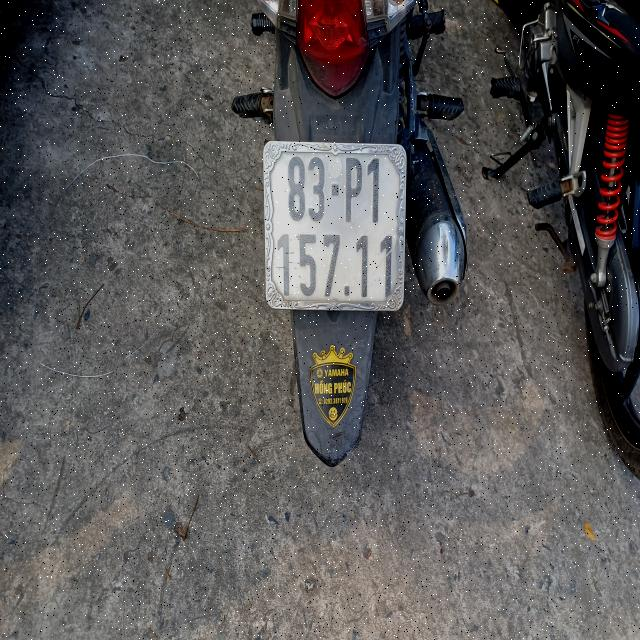1: (276, 228, 293, 296), (378, 233, 394, 301), (354, 233, 369, 297), (368, 156, 380, 225)
3: (308, 154, 326, 221)
5: (296, 232, 318, 298)
7: (322, 231, 341, 297)
8: (286, 155, 306, 220)
P: (344, 155, 362, 222)
